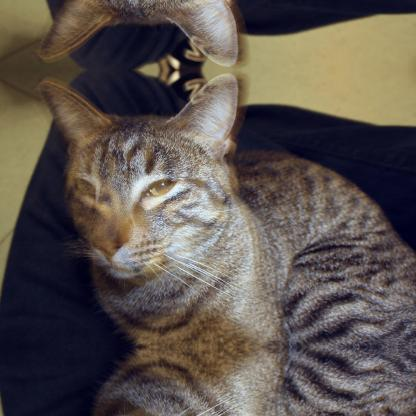Cat: (35, 71, 414, 345), (35, 0, 415, 68), (35, 347, 415, 415)
